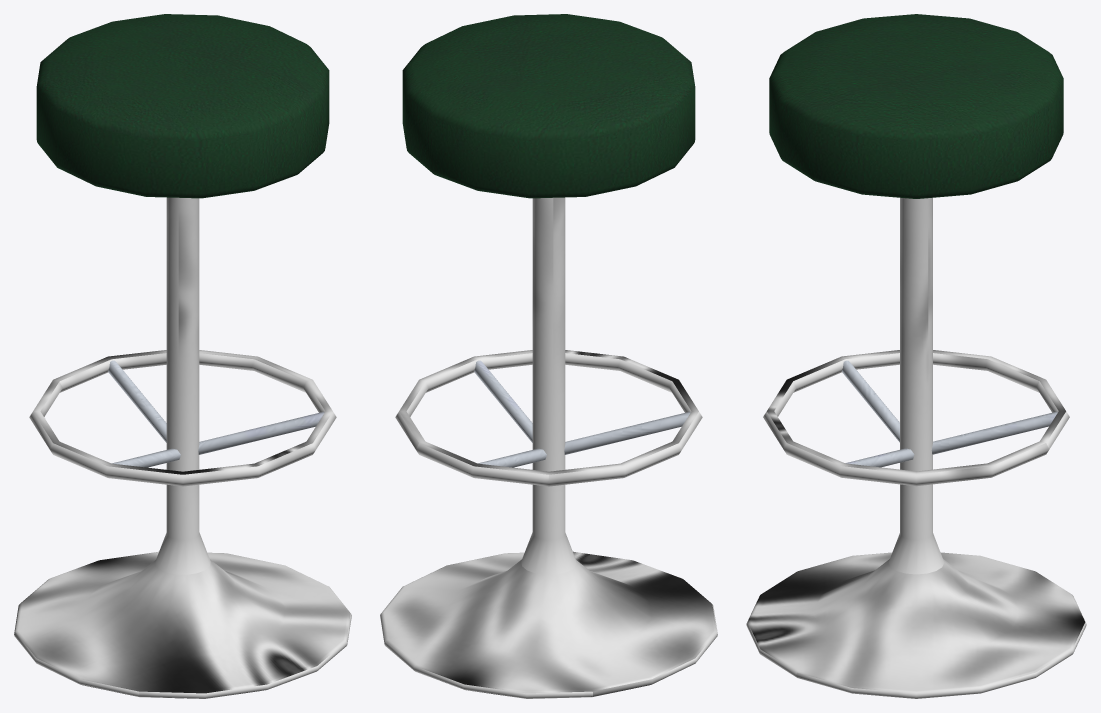
Rendered from BarStool1.fbx.
The picture shows the model from 3 angles, left to right: view 1: azimuth 30°, elevation 25°; view 2: azimuth 150°, elevation 25°; view 3: azimuth 270°, elevation 25°; orthographic projection.
Visible parts, largest first — view 1: default; view 2: default; view 3: default.
Part boxes in pixels (bbox=[...]): default: bbox=[14, 14, 351, 698]; default: bbox=[380, 14, 717, 698]; default: bbox=[746, 14, 1086, 698].
Size of the model in its own units: 8.2 by 15 by 8.2.
